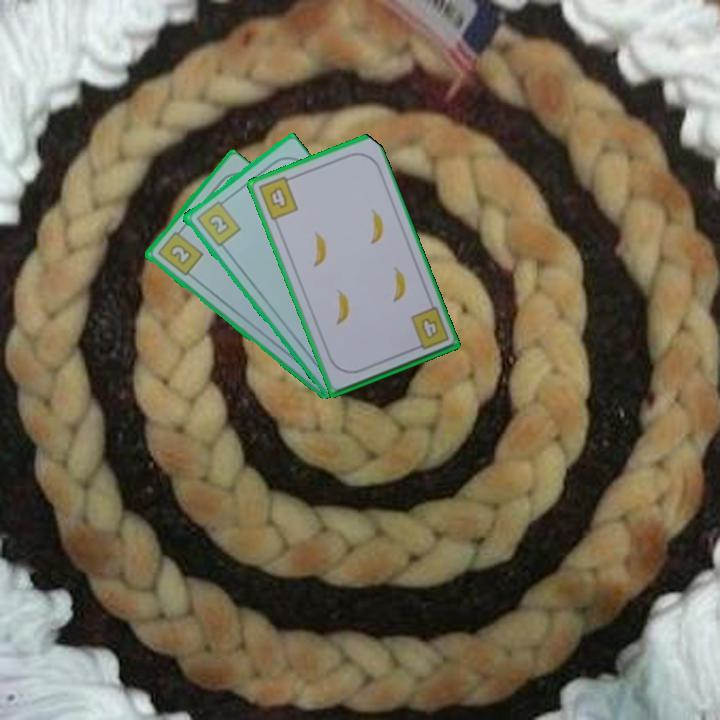2b: (154, 224, 205, 279), (192, 195, 243, 249)
4b: (255, 172, 301, 223), (407, 304, 452, 353)
